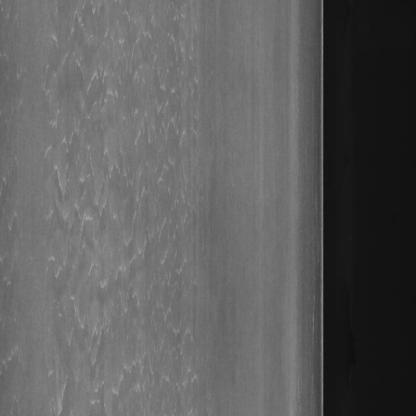silk_spot: (40, 15, 201, 416)
